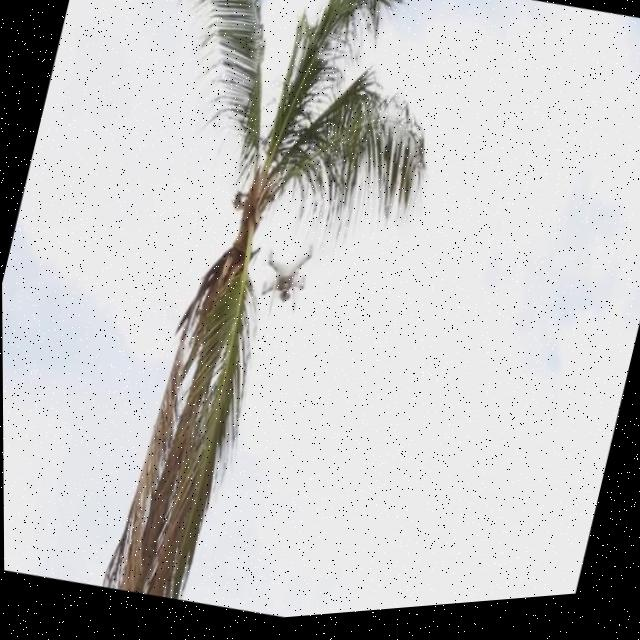drones: (252, 235, 325, 335)
